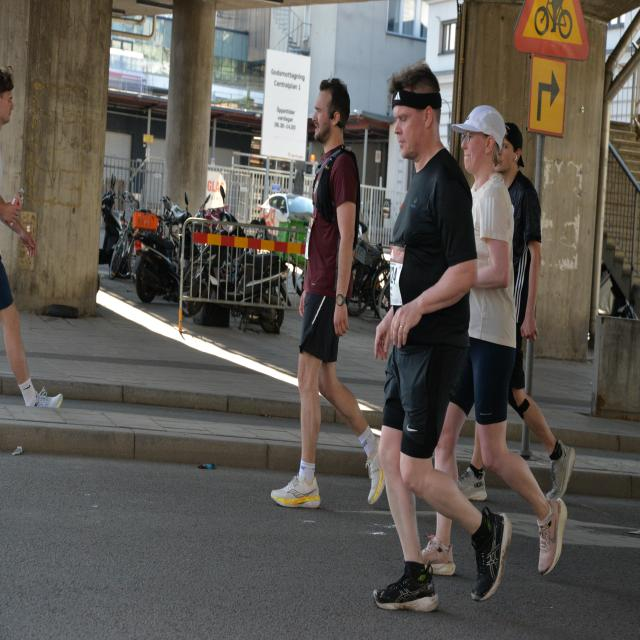runner-detect: (374, 62, 512, 618), (448, 87, 568, 607), (282, 74, 388, 558)
